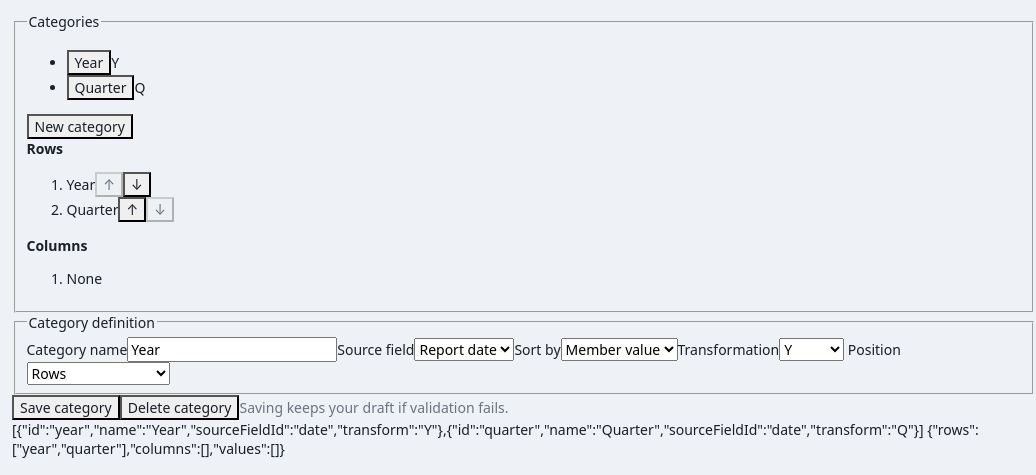
Test case: edits repeated temporal category labels and moves stable IDs between axes
This screenshot has width=1036, height=475.
Click the button "Quarter" at [100, 87], box [66,75,134,100]
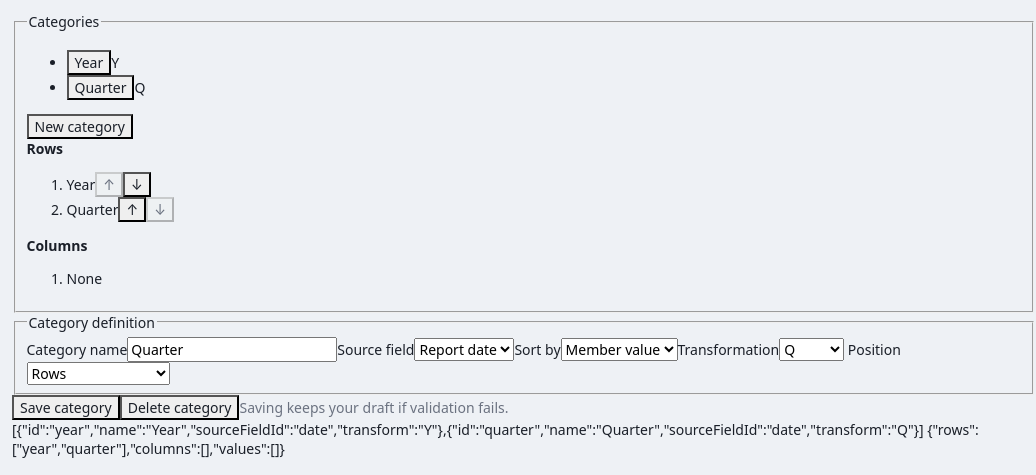
Replace the text in the field labelled "Category name" with "Period" at [232, 349], box [127,336,337,362]
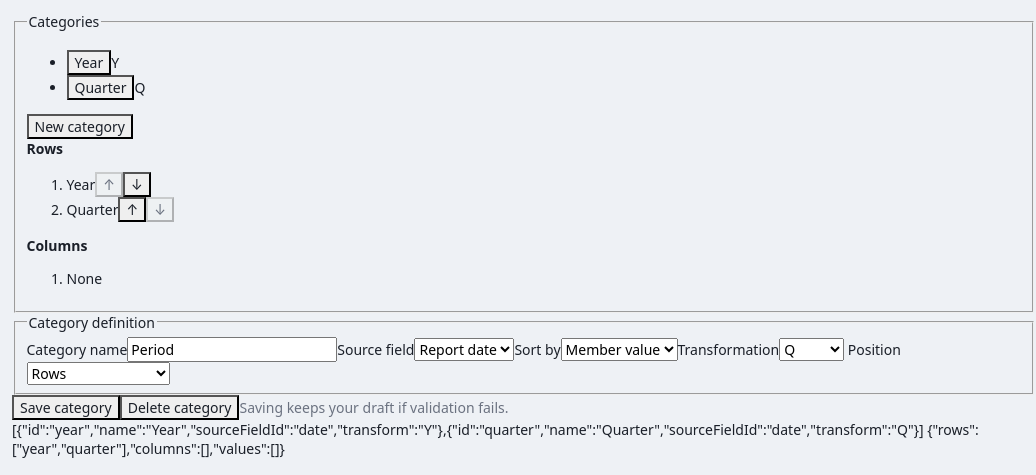
Select "Columns" in the dropdown labelled "Position" at [98, 373], box [26,362,170,384]
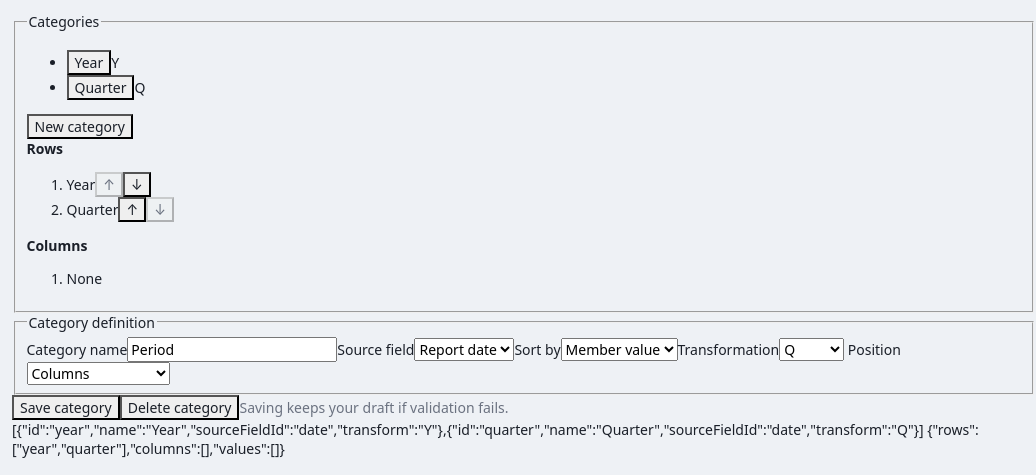
Click the button "Save category" at [66, 408], box [12,395,120,420]
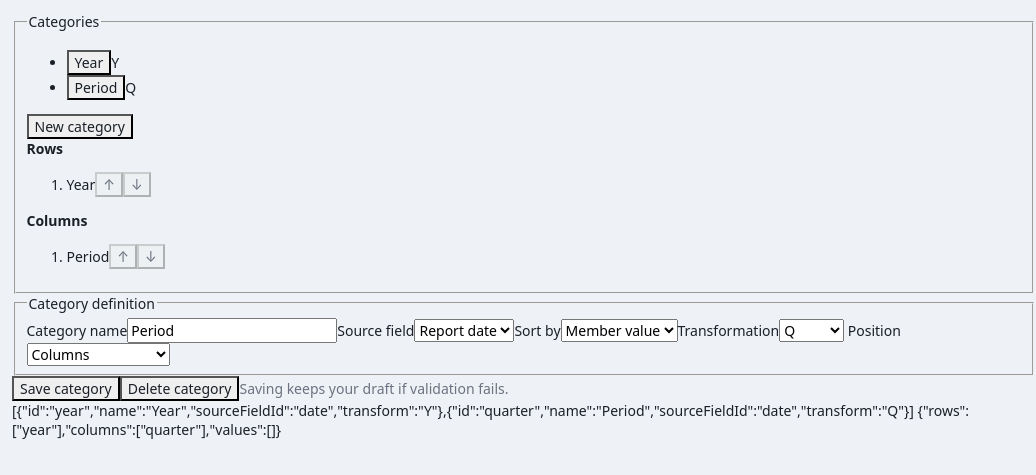
Result: the text "\"id\":\"quarter\",\"name\":\"Period\"" is shown at [12,401,914,420]
Result: the text "\"rows\":[\"year\"],\"columns\":[\"quarter\"]" is shown at [12,401,969,439]
